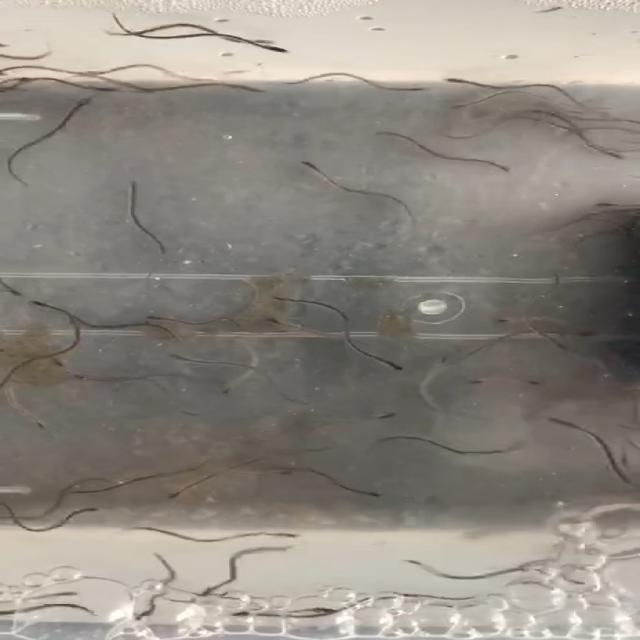active_glass_eel: (400, 81, 453, 100), (242, 36, 293, 55), (376, 356, 419, 378), (439, 72, 490, 90), (234, 32, 285, 49), (486, 438, 532, 456), (63, 93, 100, 115), (82, 77, 129, 94), (437, 98, 494, 112), (293, 154, 329, 176), (34, 350, 72, 370), (574, 324, 612, 343), (475, 159, 517, 176), (164, 482, 206, 499), (184, 582, 219, 602), (595, 195, 637, 211), (215, 608, 252, 626), (456, 373, 491, 392), (220, 375, 250, 397), (23, 414, 50, 438), (263, 466, 301, 483), (594, 146, 632, 163), (535, 411, 575, 427), (126, 80, 161, 98), (306, 604, 347, 619), (63, 602, 98, 619), (256, 528, 304, 540), (122, 174, 150, 194), (255, 315, 295, 329), (486, 312, 525, 326), (146, 308, 172, 327), (230, 81, 265, 95), (159, 348, 194, 362), (516, 376, 550, 390), (432, 355, 459, 372), (23, 297, 51, 313), (126, 610, 155, 625), (547, 272, 571, 290), (54, 585, 81, 600), (370, 409, 398, 423), (79, 504, 111, 516), (360, 488, 386, 502)
